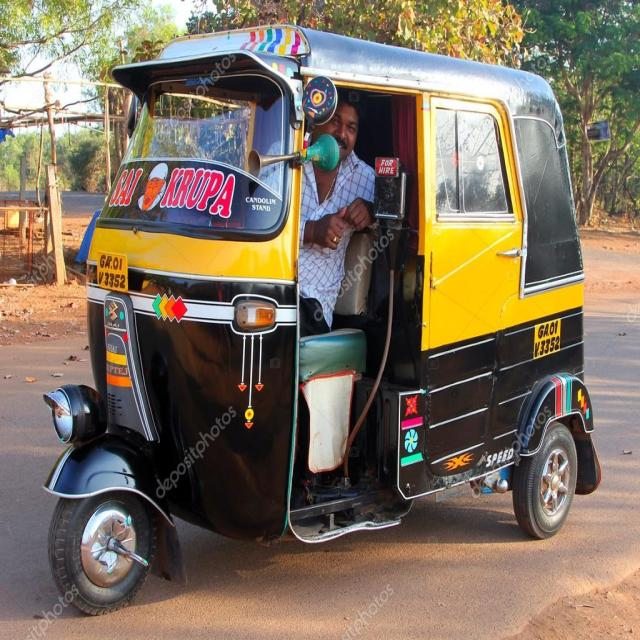Plate: (98, 252, 128, 290)
rickshaw: (45, 24, 600, 614)
